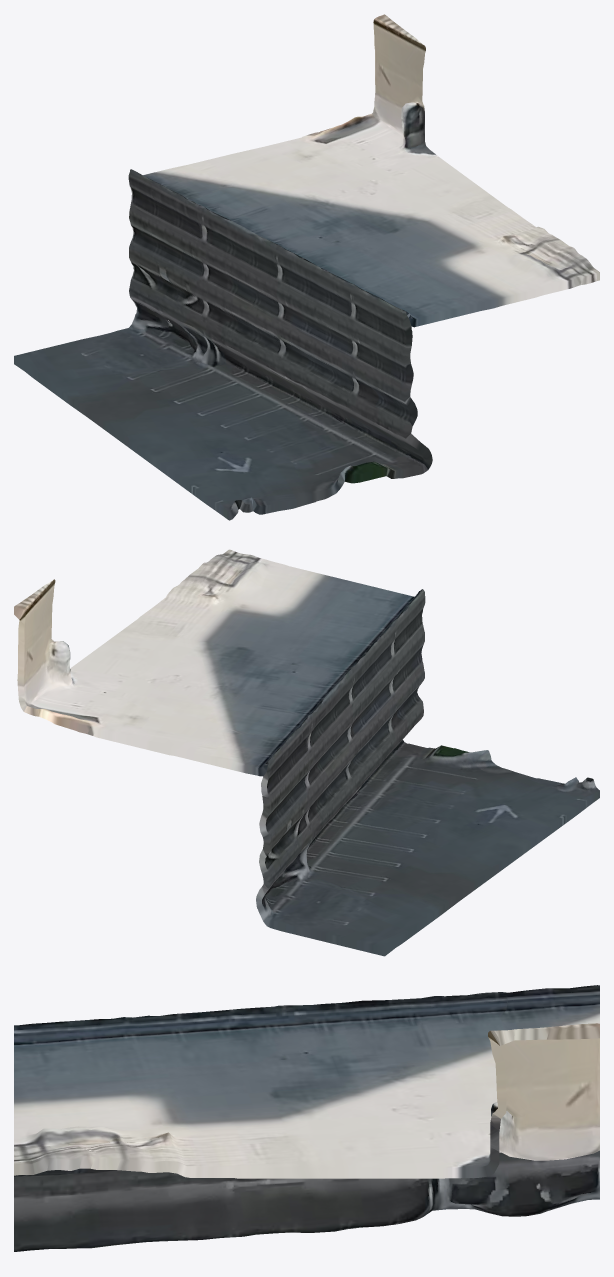
File: z20-167753-405241-h0-yup-uvflip-v3-world.glb
3 views of the same model, one above another, from view 1: azimuth 30°, elevation 25°; view 2: azimuth 150°, elevation 25°; view 3: azimuth 270°, elevation 25° (orthographic). The views are drawn at different scales.
Size of the model in its own units: 30.16 by 20.36 by 30.32.
1 material, 1 textured.
